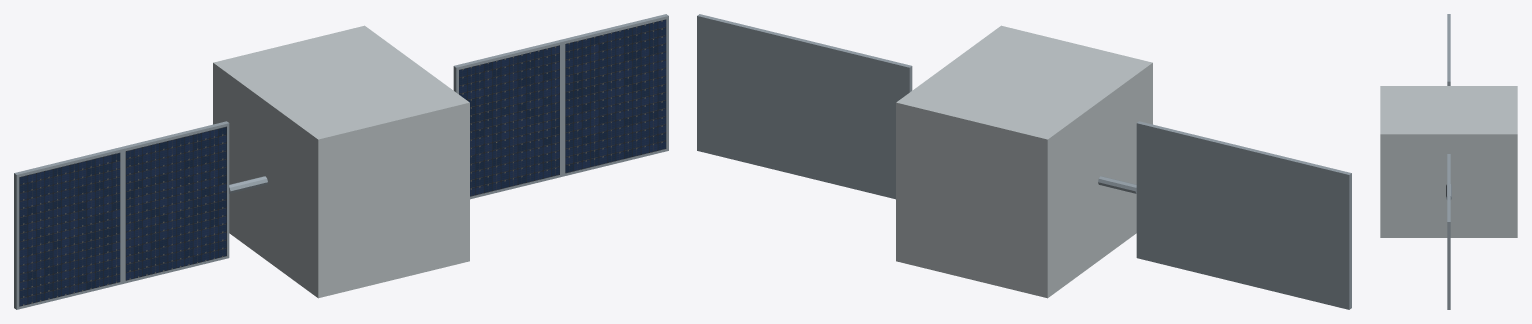
File: ref-tiros-m-4320.glb
The picture shows the model from 3 angles, left to right: view 1: azimuth 30°, elevation 25°; view 2: azimuth 150°, elevation 25°; view 3: azimuth 270°, elevation 25°; orthographic projection. The views are drawn at different scales.
Visible parts, largest first — view 1: Spacecraft body, Photovoltaic laminates (×4), Array frame (×4); view 2: Array frame (×4), Spacecraft body; view 3: Spacecraft body, Array frame (×4).
Boxes of the visible parts, x1,y1,x2,y2 form: Spacecraft body: (213, 25, 469, 298); Photovoltaic laminates (×4): (19, 19, 666, 306); Array frame (×4): (14, 14, 668, 309); Array frame (×4): (697, 14, 1351, 309); Spacecraft body: (896, 25, 1152, 298); Spacecraft body: (1380, 86, 1517, 237); Array frame (×4): (1447, 14, 1450, 309).
Size of the model in its own units: 4.3 by 1 by 1.2.
Materials: 3 (1 with a texture image).
